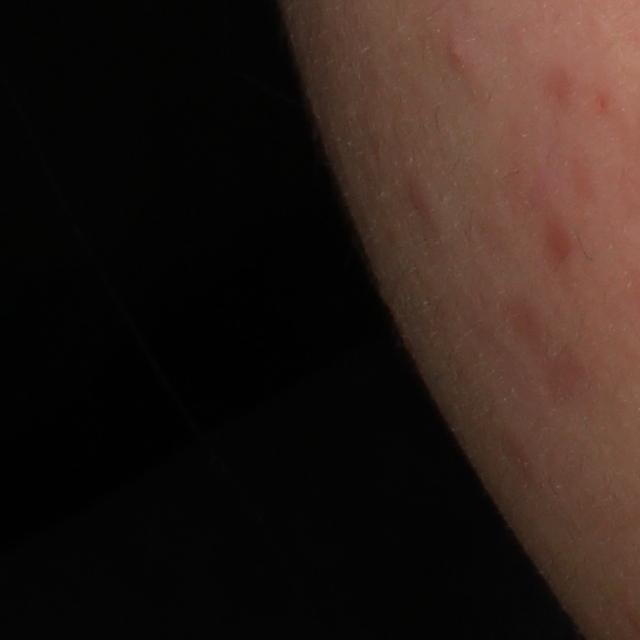papule: (538, 212, 581, 272), (448, 31, 474, 73)
